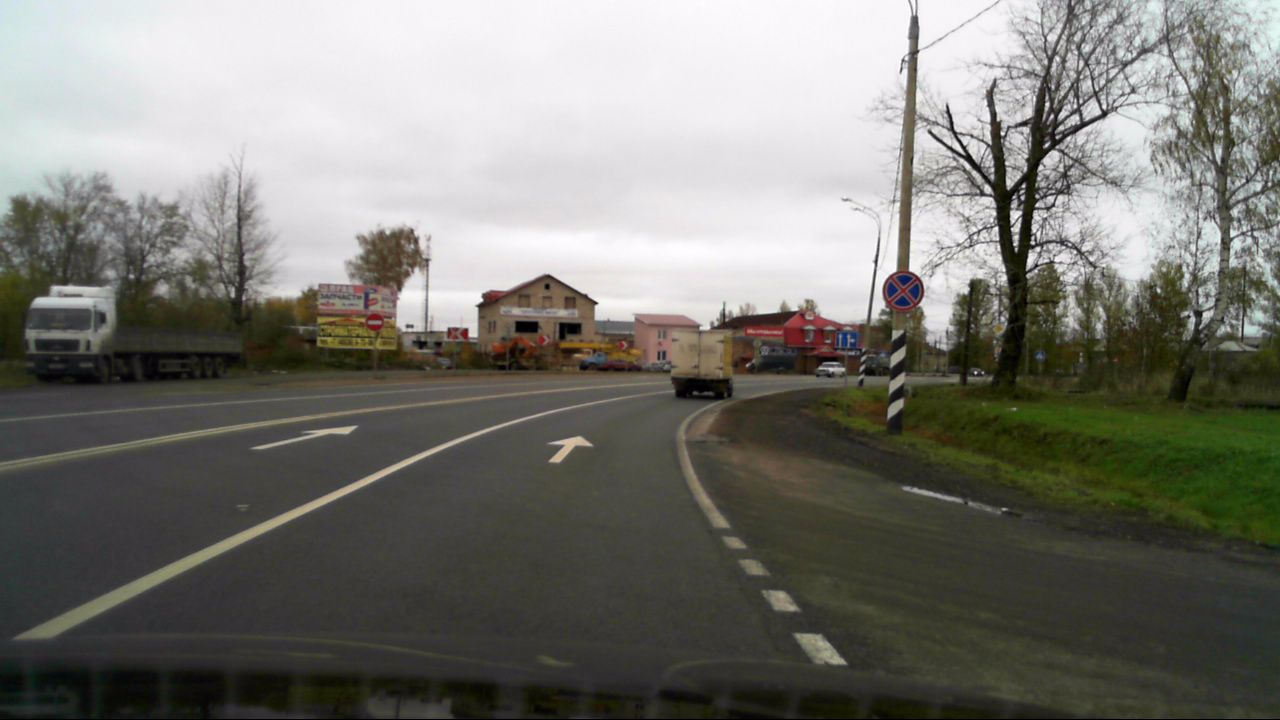No Parking: (881, 270, 923, 312)
